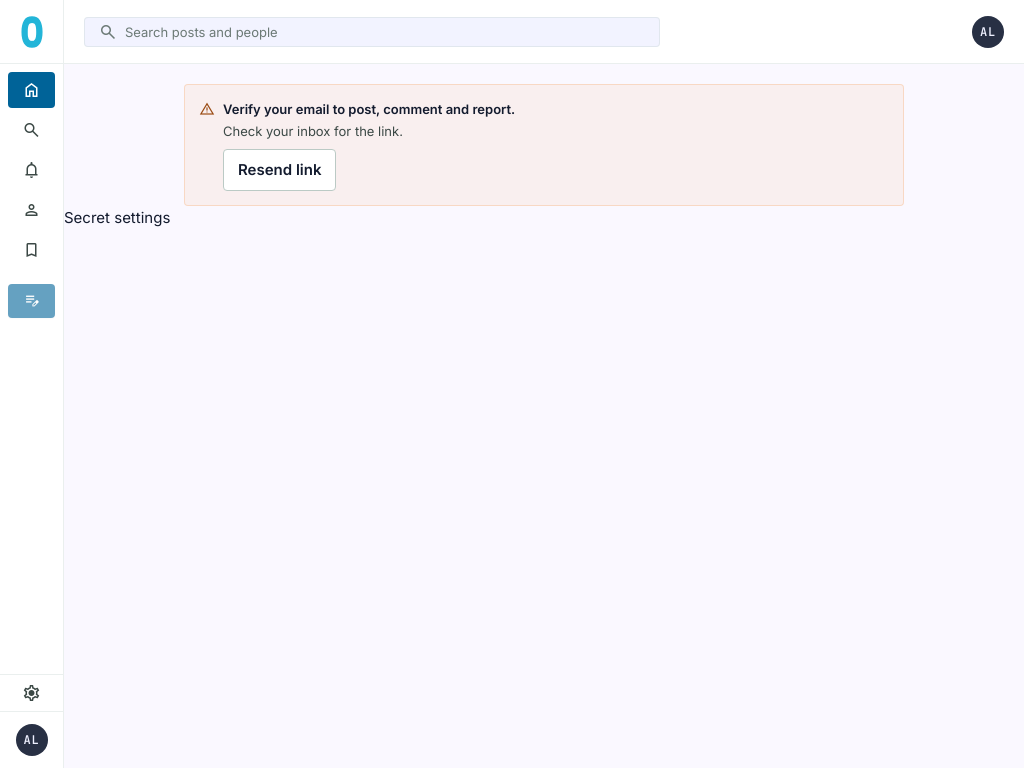
Test: (app) layout, unverified email › shows a throttled resend as a toast
Click the button "Resend link" at (280, 170), box [223, 149, 336, 191]
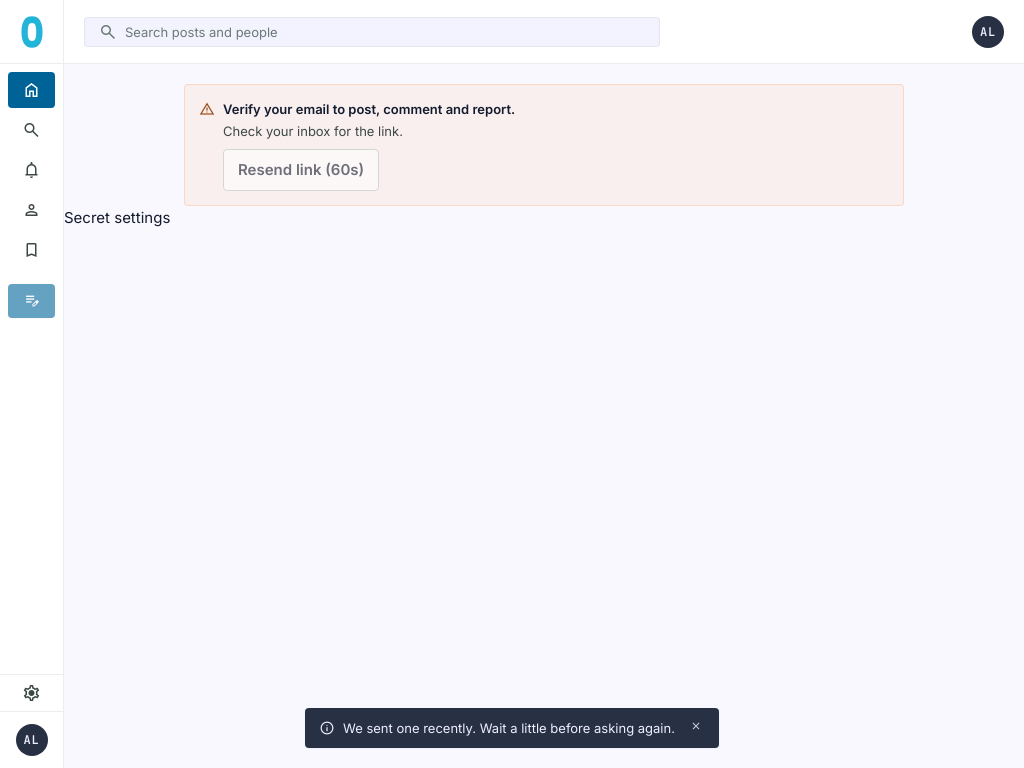
Check: the text "We sent one recently. Wait a little before asking again." is shown, box [343, 718, 675, 738]
